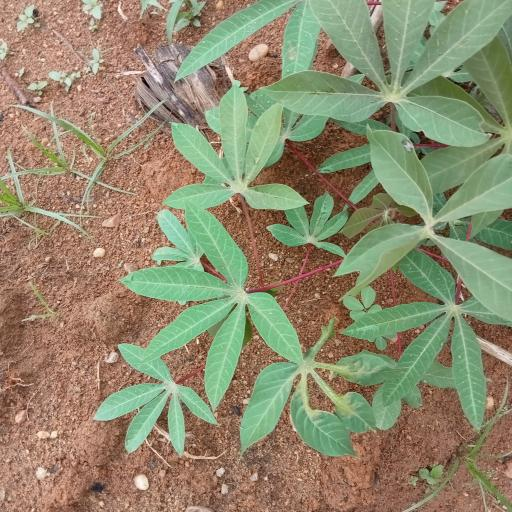Cassava_Mosaic: (132, 215, 304, 397), (355, 130, 512, 313), (234, 332, 396, 452), (168, 83, 296, 221)
